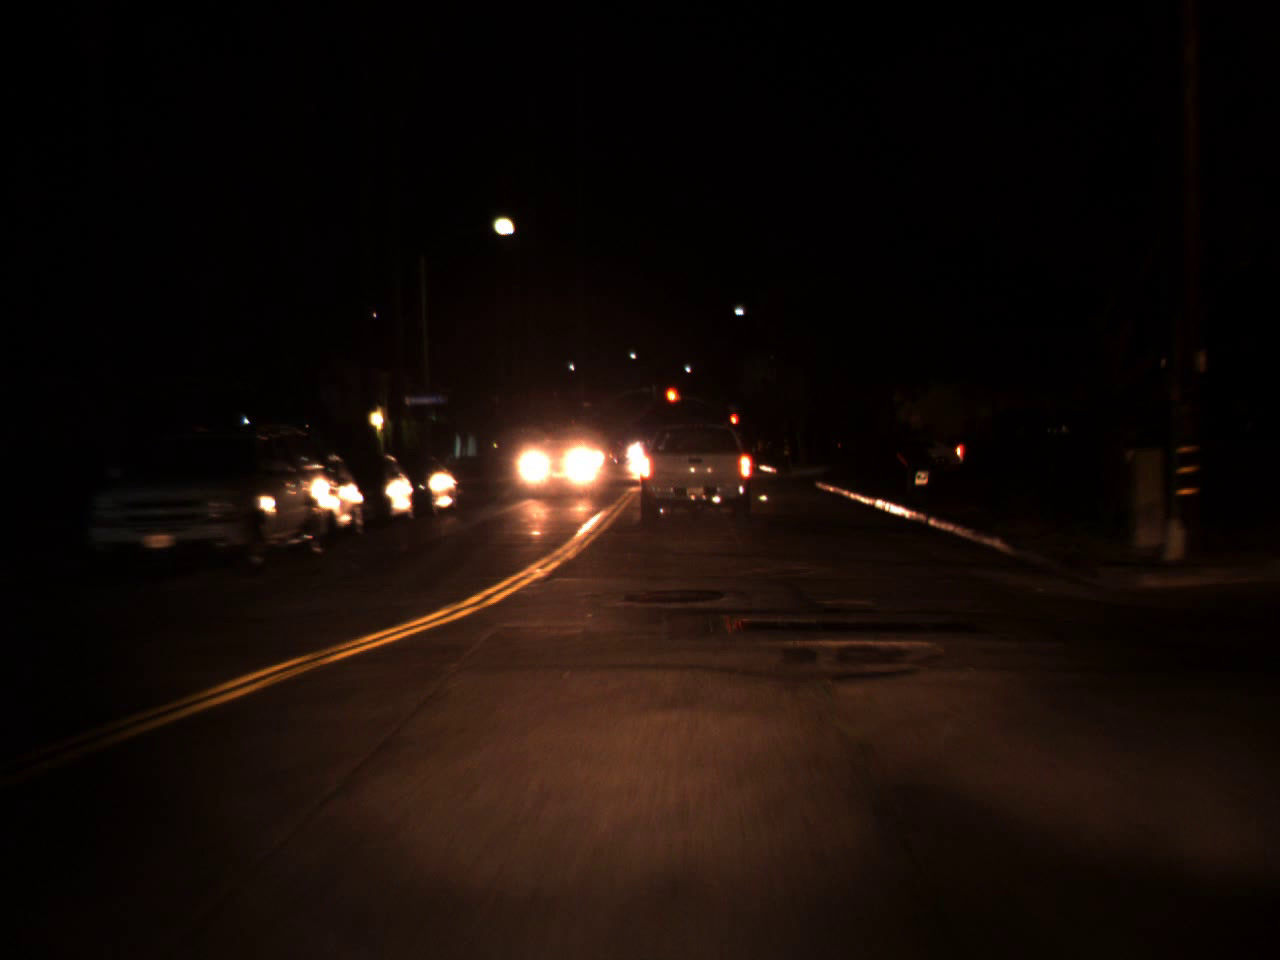stop: (664, 384, 680, 421), (729, 412, 739, 433)
